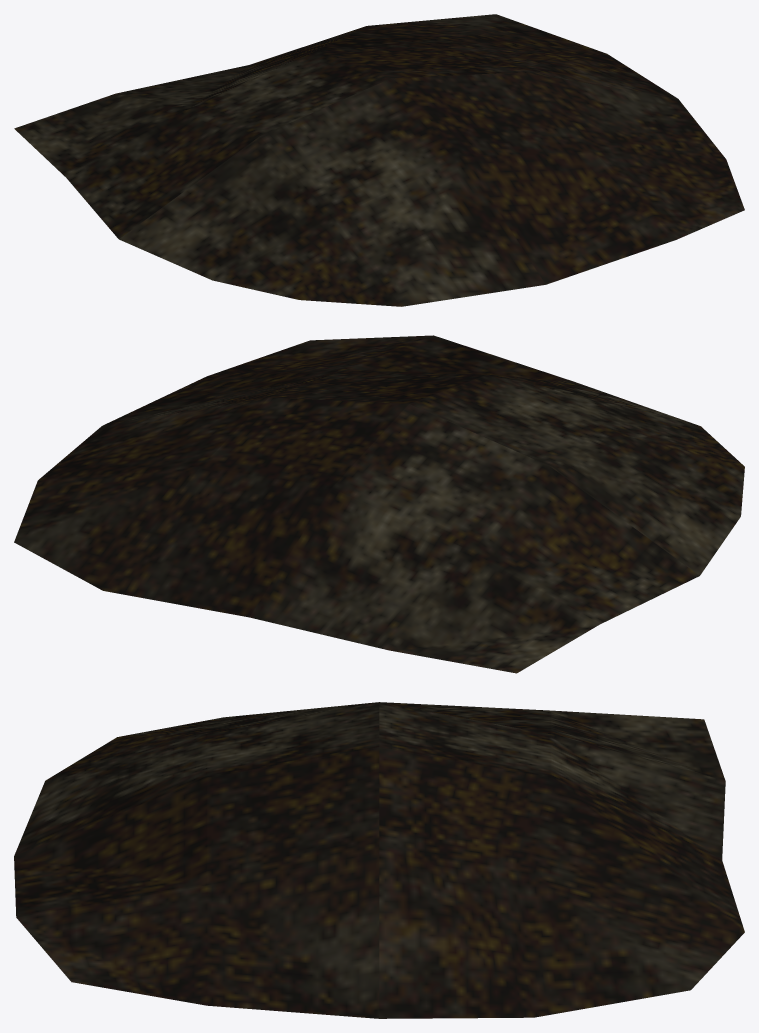
The model's file is SM_EC_Horror_Hay_Patch_4.fbx.
3 renders of one model, top to bottom at view 1: azimuth 30°, elevation 25°; view 2: azimuth 150°, elevation 25°; view 3: azimuth 270°, elevation 25°, orthographic. The views are drawn at different scales.
Visible parts, largest first — view 1: SM_EC_Horror_Hay_Patch_4; view 2: SM_EC_Horror_Hay_Patch_4; view 3: SM_EC_Horror_Hay_Patch_4.
Part boxes in pixels (left/top/right/bottom): SM_EC_Horror_Hay_Patch_4: left=14, top=14, right=744, bottom=306; SM_EC_Horror_Hay_Patch_4: left=14, top=335, right=744, bottom=673; SM_EC_Horror_Hay_Patch_4: left=14, top=702, right=744, bottom=1018.
Size of the model in its own units: 2.04 by 1.96 by 0.3289.
